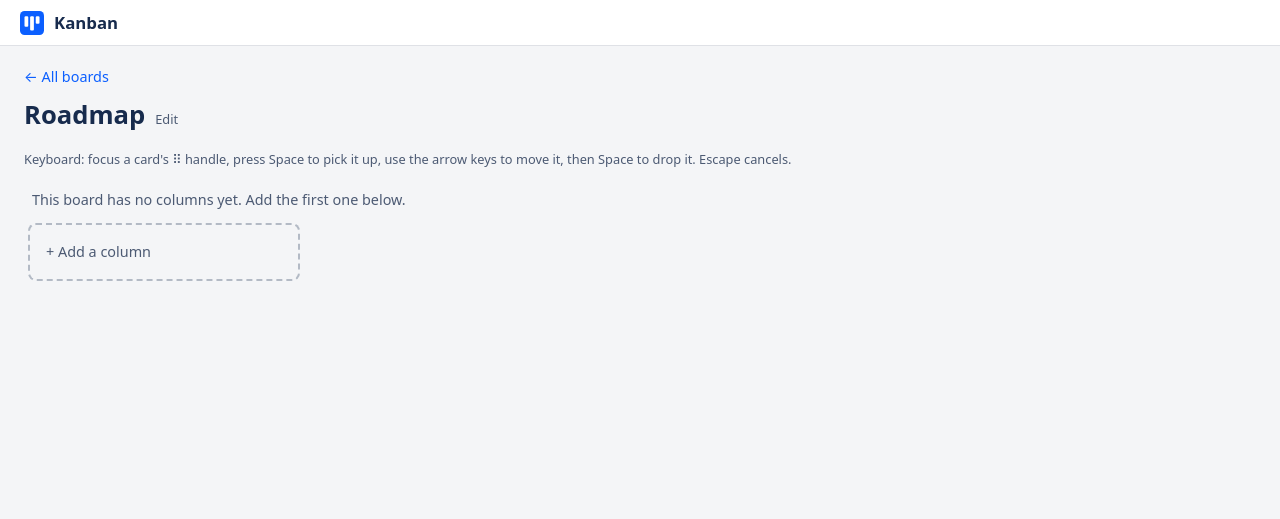
Test: has a header link that returns to the boards list
Click the link "Kanban" at (69, 23), box [20,10,118,35]
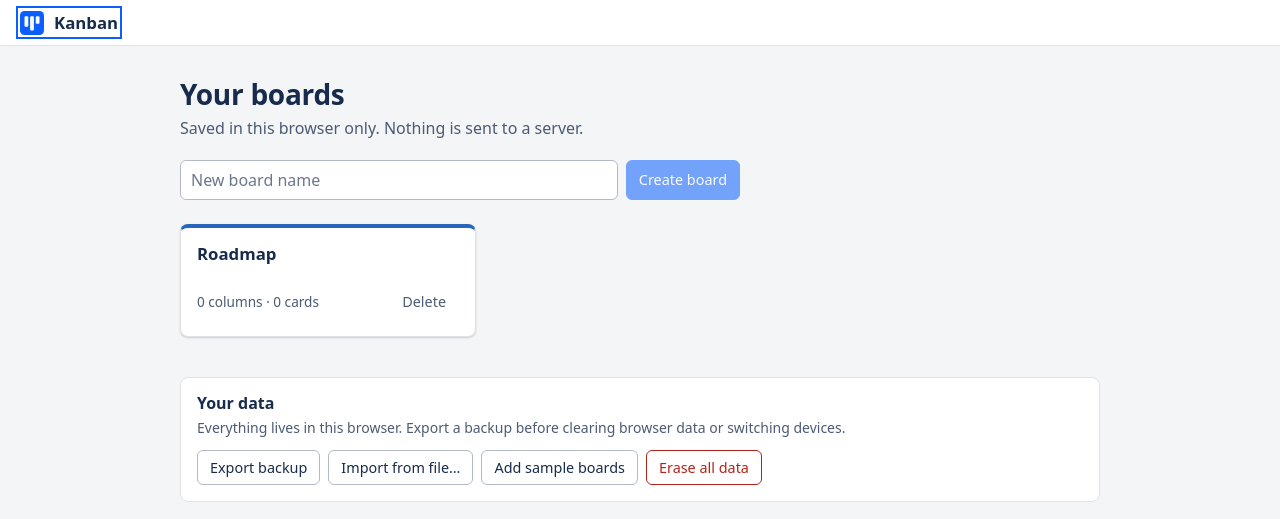
Check: the heading "Your boards" is shown, box [180,75,344,113]
